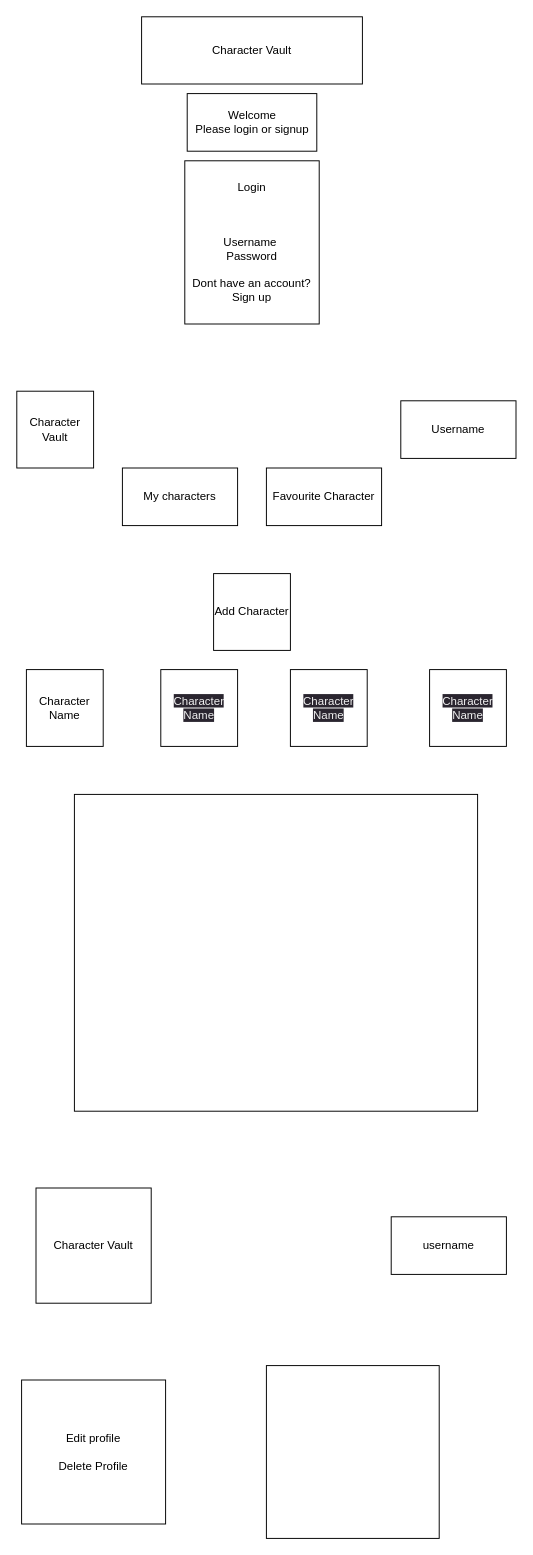
The diagram is 533 pixels wide and 1555 high, and some of its shapes have lost their labels. The centre of each missing label's shape, as x and y in pixels:
Character Description Edit Delete: point (275, 952)
Username Email Password: point (352, 1451)
